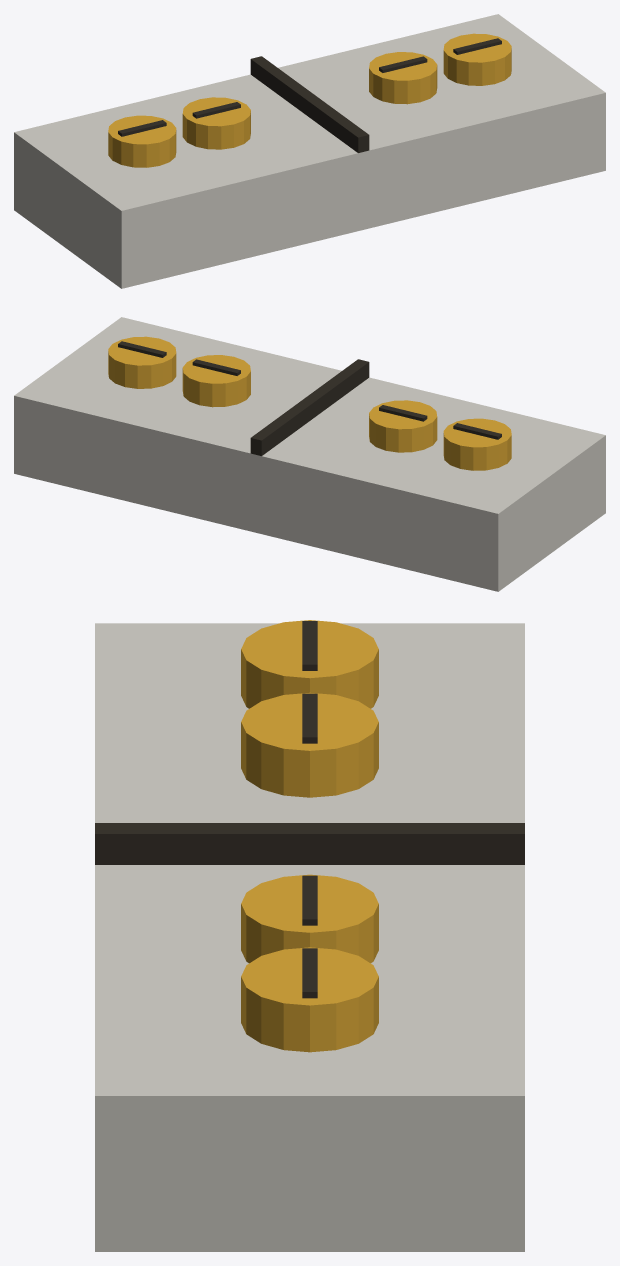
File: TerminalBox 1.obj
The picture shows the model from 3 angles, top to bottom: view 1: azimuth 30°, elevation 25°; view 2: azimuth 150°, elevation 25°; view 3: azimuth 270°, elevation 25°; orthographic projection. The views are drawn at different scales.
Visible parts, largest first — view 1: Base, Divider, Terminal_BELL_1, Terminal_BELL_2, Terminal_LIGHT_1, Terminal_LIGHT_2; view 2: Base, Divider, Terminal_BELL_1, Terminal_BELL_2, Terminal_LIGHT_1, Terminal_LIGHT_2; view 3: Base, Divider, Terminal_BELL_1, Terminal_LIGHT_1, Terminal_LIGHT_2, Terminal_BELL_2.
Boxes of the visible parts, x1=… form: Base: x1=14, y1=14, x2=605, y2=288; Divider: x1=250, y1=56, x2=369, y2=152; Terminal_BELL_1: x1=182, y1=97, x2=250, y2=149; Terminal_BELL_2: x1=108, y1=115, x2=176, y2=167; Terminal_LIGHT_1: x1=443, y1=33, x2=511, y2=85; Terminal_LIGHT_2: x1=369, y1=52, x2=437, y2=104; Base: x1=14, y1=317, x2=605, y2=591; Divider: x1=250, y1=359, x2=369, y2=455; Terminal_BELL_1: x1=369, y1=400, x2=437, y2=452; Terminal_BELL_2: x1=443, y1=418, x2=511, y2=470; Terminal_LIGHT_1: x1=108, y1=336, x2=176, y2=388; Terminal_LIGHT_2: x1=182, y1=355, x2=250, y2=407; Base: x1=95, y1=623, x2=524, y2=1251; Divider: x1=95, y1=823, x2=524, y2=864; Terminal_BELL_1: x1=241, y1=692, x2=378, y2=797; Terminal_LIGHT_1: x1=241, y1=947, x2=378, y2=1052; Terminal_LIGHT_2: x1=241, y1=874, x2=378, y2=963; Terminal_BELL_2: x1=241, y1=620, x2=378, y2=708.
Size of the model in its own units: 0.13 by 0.0268 by 0.05.
